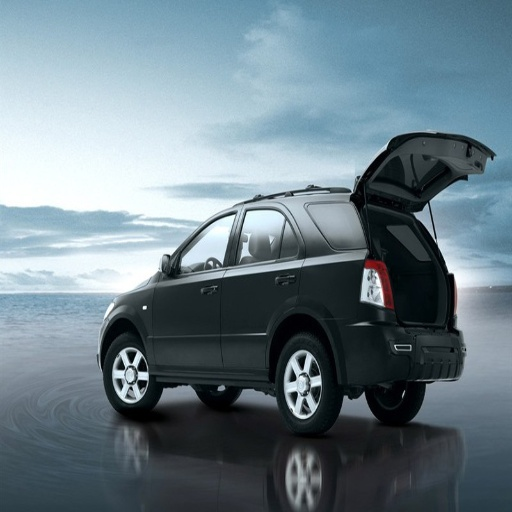_background_: (346, 325, 399, 359)
back_bumper: (309, 200, 382, 246)
back_glass: (221, 202, 304, 366)
back_left_door: (364, 253, 394, 311)
back_left_light: (368, 153, 407, 212)
front_glass: (153, 210, 240, 365)
tailgate: (340, 291, 441, 384)
trunk: (277, 332, 340, 511), (103, 332, 159, 416), (369, 386, 425, 425)
